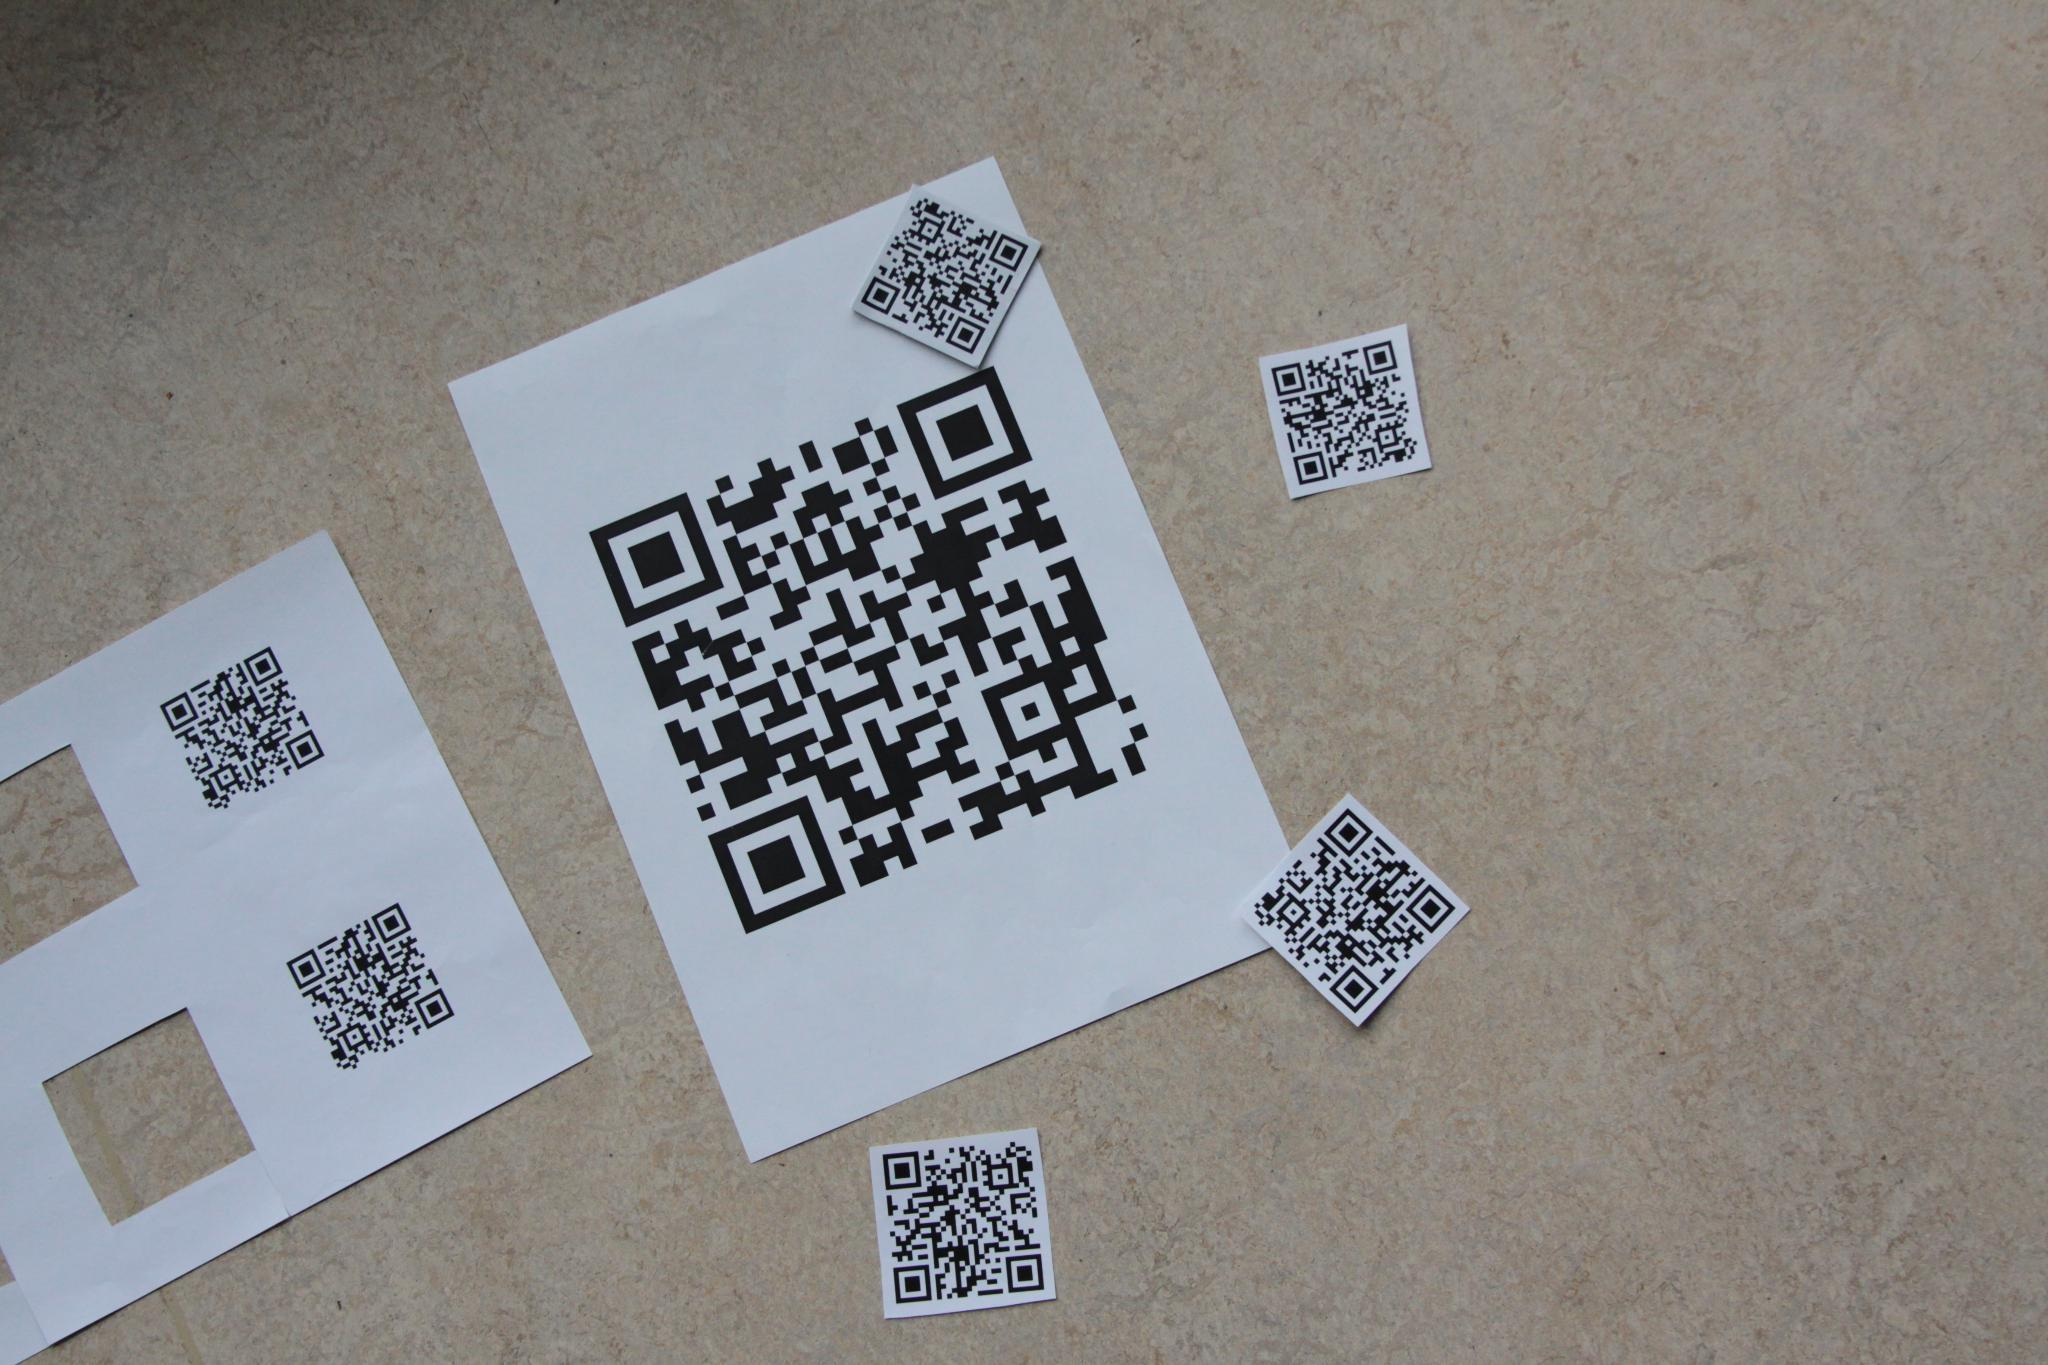Finder pattern: (583, 484, 726, 626), (891, 366, 1043, 494), (702, 800, 845, 935), (1328, 958, 1386, 1010), (1003, 1242, 1054, 1296), (1326, 807, 1376, 859), (154, 689, 207, 737), (876, 1147, 924, 1194), (891, 1261, 936, 1309), (372, 897, 413, 946), (276, 951, 332, 986), (1410, 887, 1454, 931), (1361, 332, 1402, 379), (408, 987, 458, 1025), (283, 728, 324, 768), (1274, 360, 1313, 401), (947, 317, 985, 356), (247, 647, 282, 690), (991, 232, 1028, 267), (1297, 449, 1331, 486), (862, 280, 900, 309)
